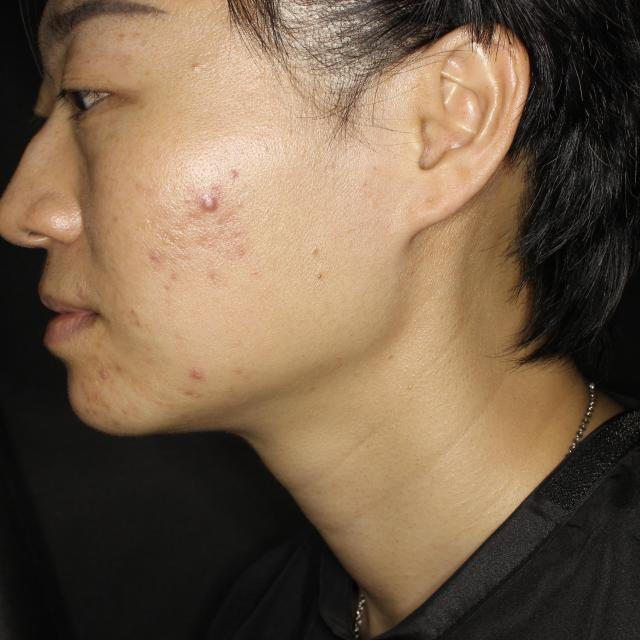pustule: (188, 184, 222, 220), (84, 389, 112, 416), (170, 381, 206, 400), (89, 361, 120, 383), (178, 357, 212, 377), (140, 249, 170, 271)
